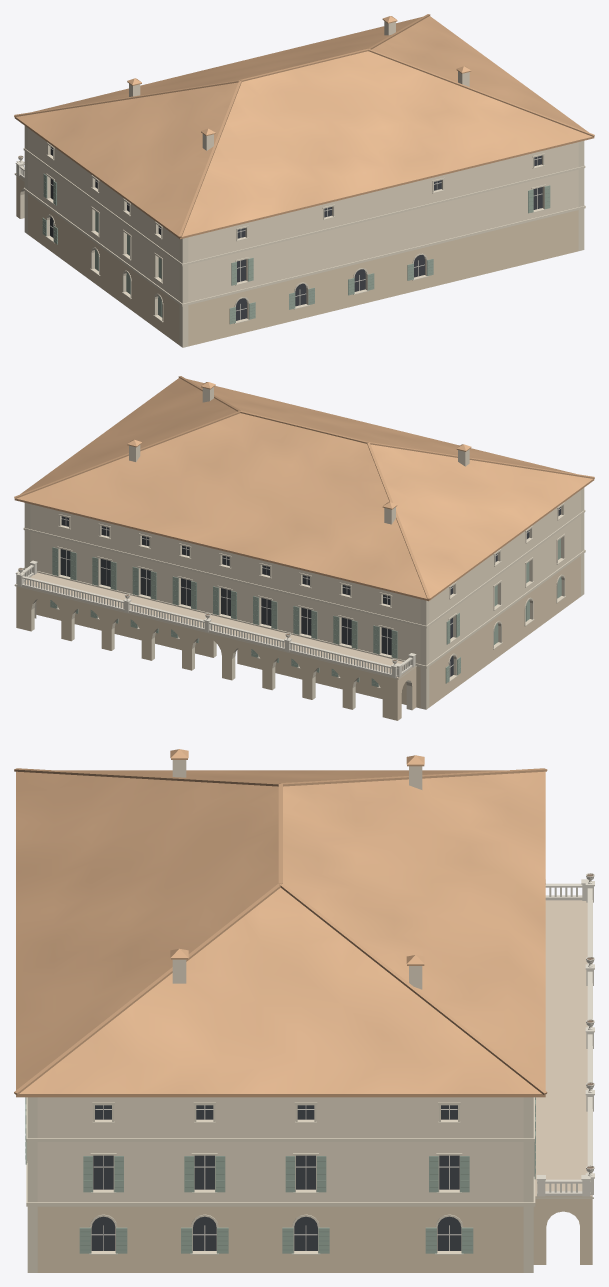
File: SM_BM_BHip_Salon.glb
3 renders of one model, top to bottom at view 1: azimuth 30°, elevation 25°; view 2: azimuth 150°, elevation 25°; view 3: azimuth 270°, elevation 25°, orthographic. The views are drawn at different scales.
Parts seen in each view (by area): view 1: SM_BM_BHip_Salon; view 2: SM_BM_BHip_Salon; view 3: SM_BM_BHip_Salon.
Boxes of the visible parts, box(x1,y1,x2,y2) form: SM_BM_BHip_Salon: box(14, 14, 594, 347); SM_BM_BHip_Salon: box(14, 376, 594, 720); SM_BM_BHip_Salon: box(14, 749, 594, 1272).
Size of the model in its own units: 45.62 by 18.46 by 34.44.
